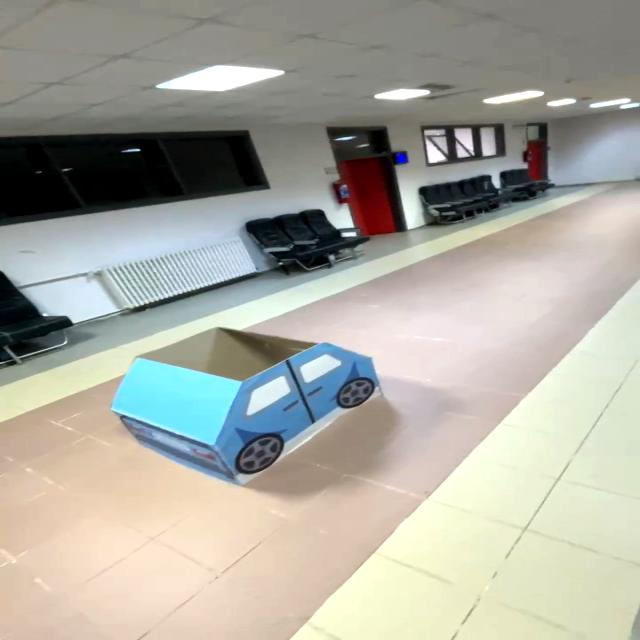blue_car: (89, 314, 401, 493)
